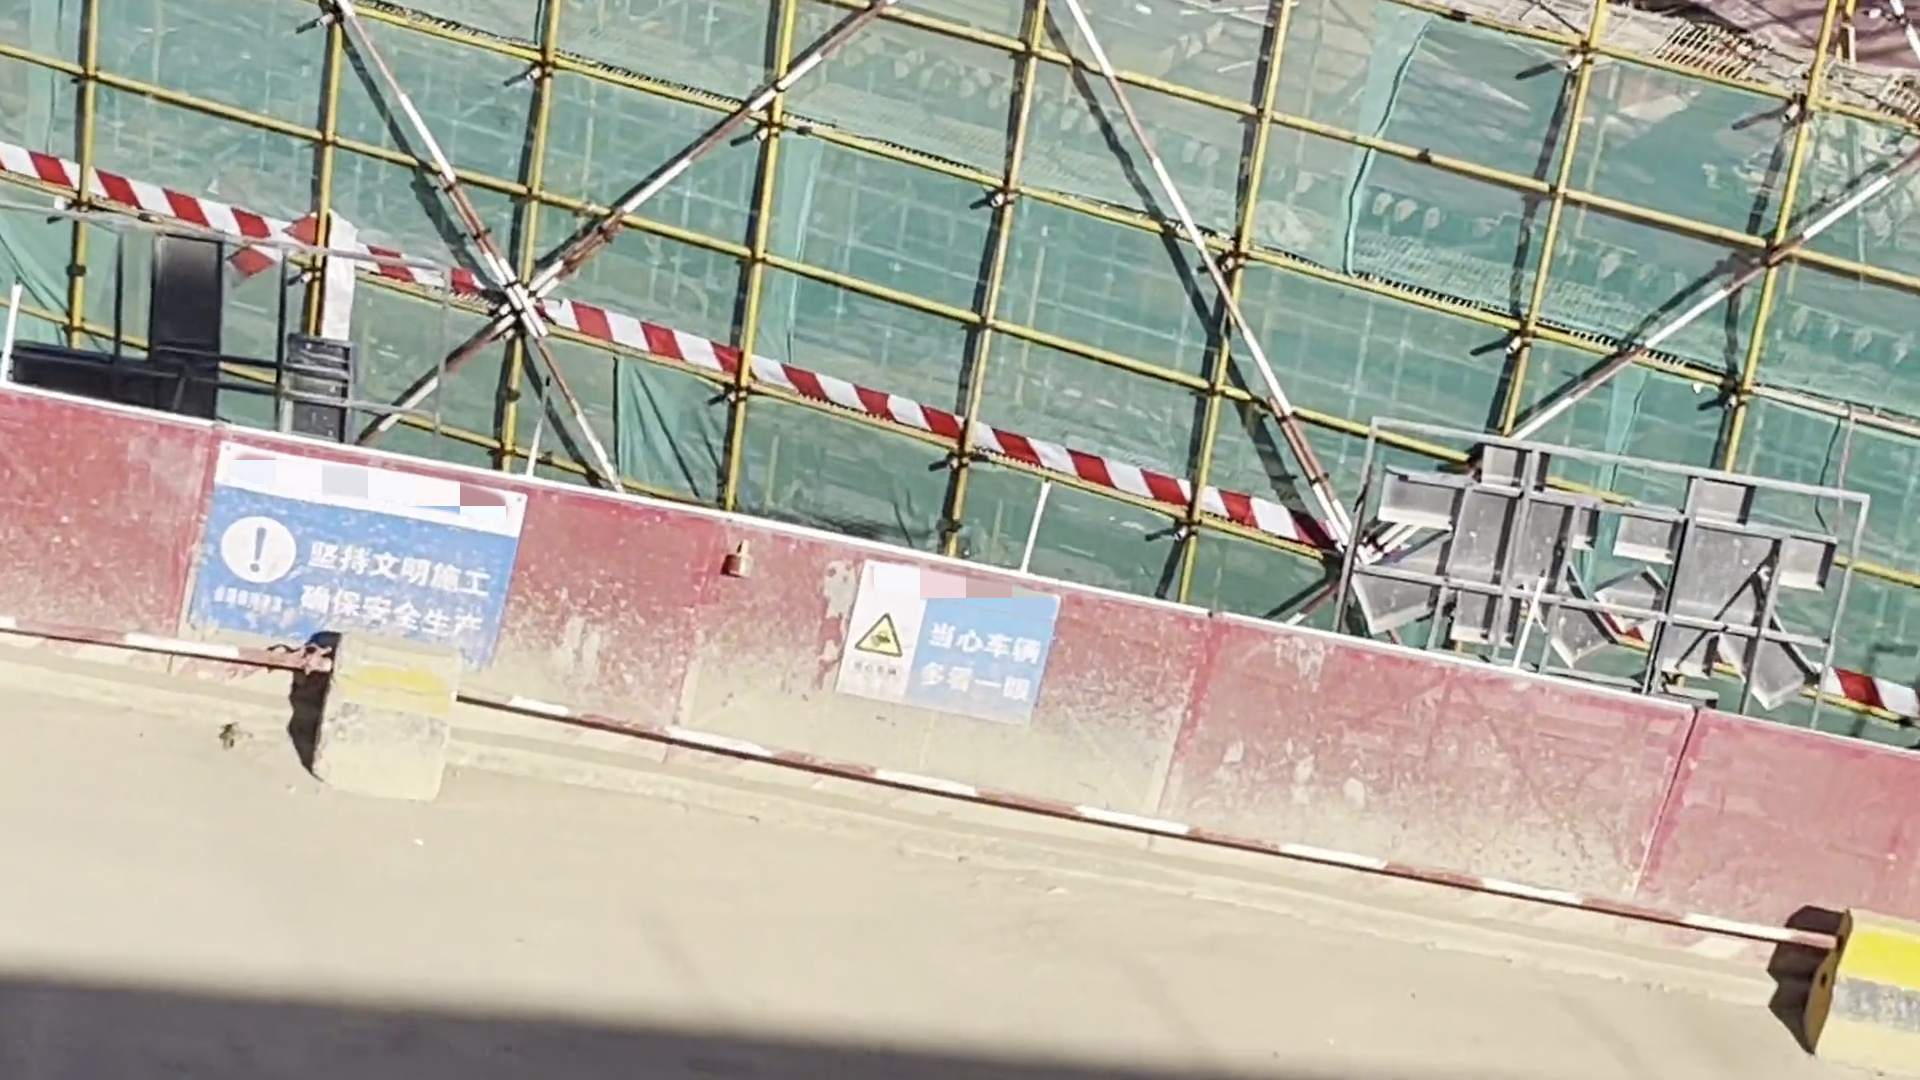fence: (8, 389, 1920, 990)
slogan: (181, 434, 524, 692), (819, 545, 1063, 760)
